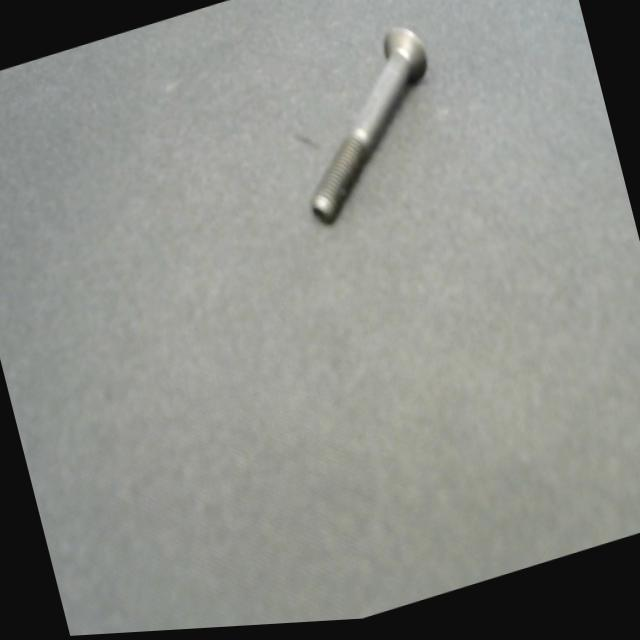FlatHeadSocketScrew: (266, 15, 464, 236)
